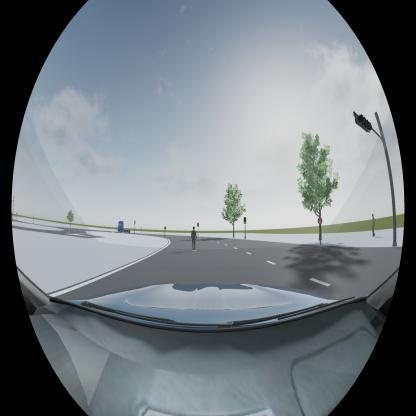Green Light: (244, 217, 246, 224)
Red Light: (197, 222, 199, 227)
